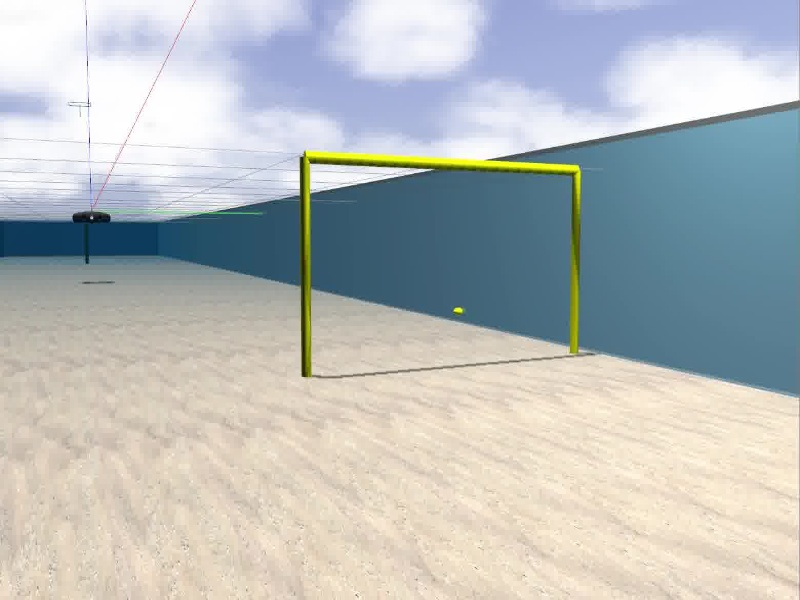gate: (297, 146, 580, 375)
